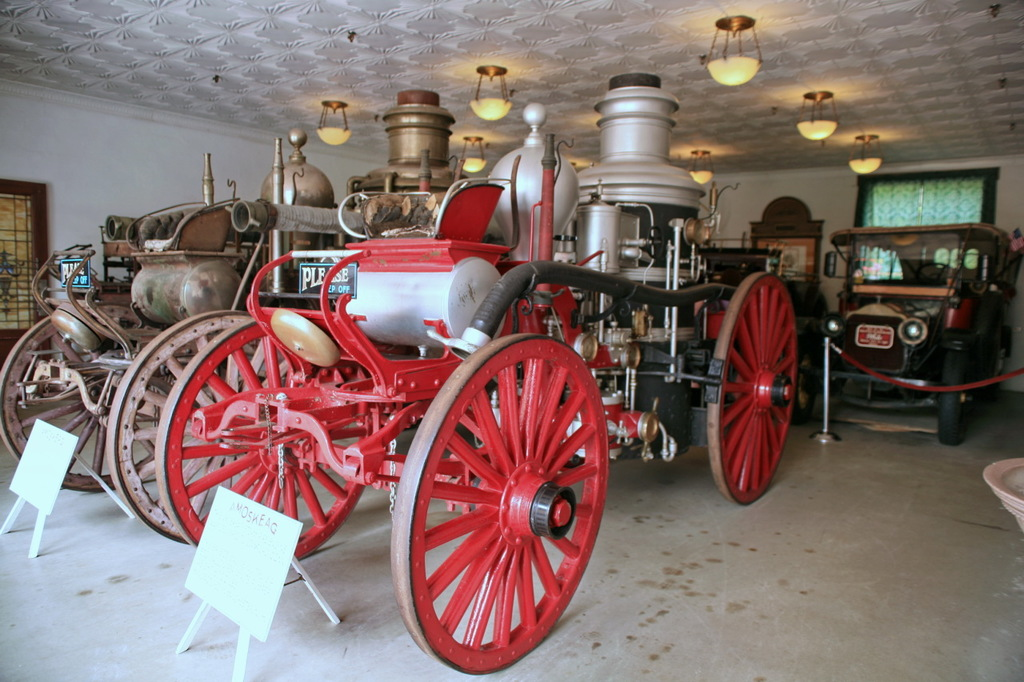cars: (793, 221, 1023, 449)
